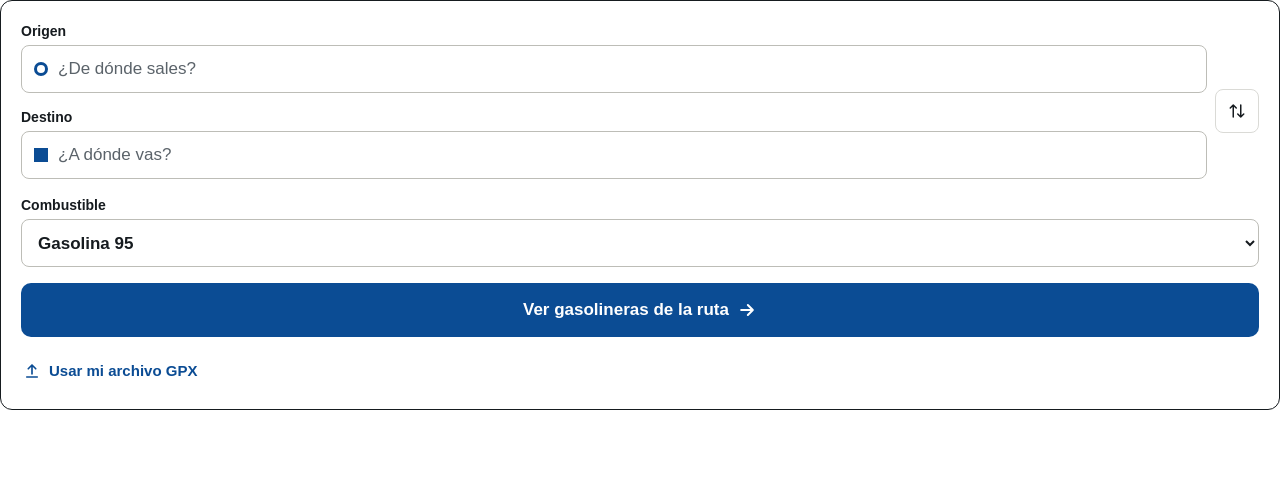
SearchForm › explains what is missing instead of submitting
Click the button "Ver gasolineras de la ruta".
click(640, 310)  # box [21,283,1259,337]
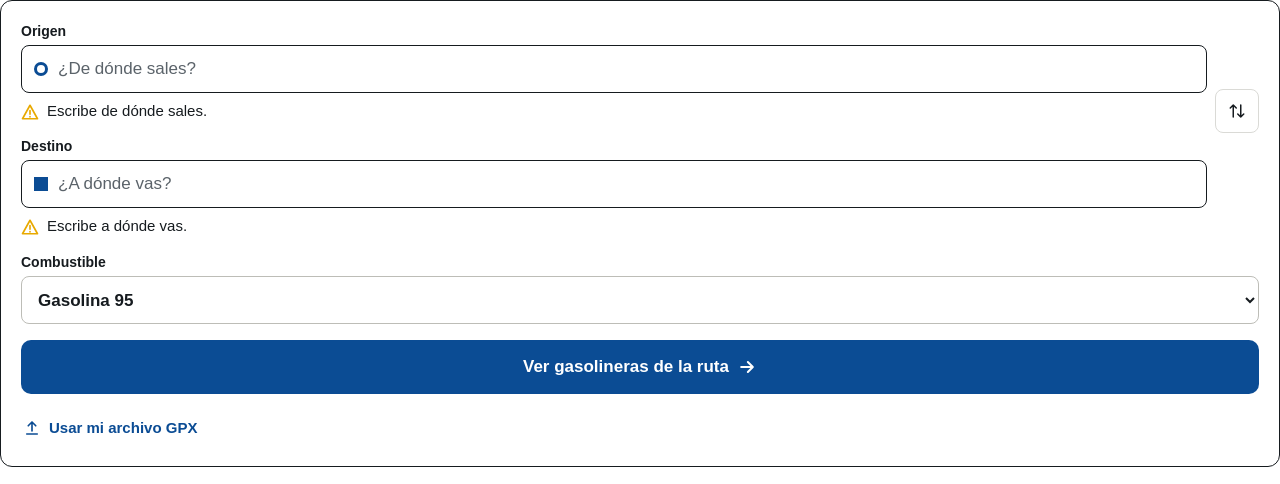
Expected: the text "Escribe de dónde sales." is shown, [47,102,207,119]
Expected: the text "Escribe a dónde vas." is shown, [47,217,187,234]
